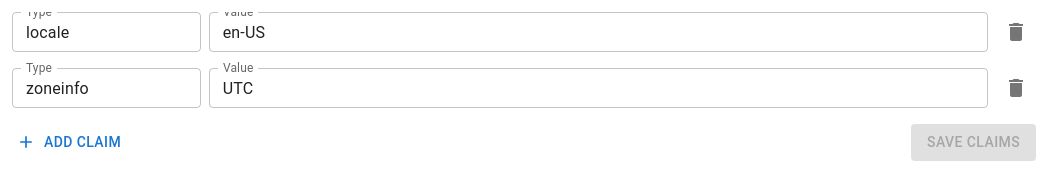
LocalAccountClaimsEditor › disables save until the rows differ
Expected: the button with test id "claims-save" is disabled, 911,124 -> 1036,160
Replace the text in the field with test id "claim-value-0" with "de-DE": (598, 32) 209,12 -> 988,52
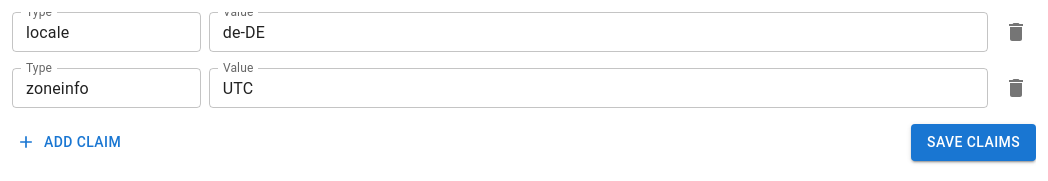
Expected: the button with test id "claims-save" is enabled, 911,124 -> 1036,160
Replace the text in the field with test id "claim-value-0" with "en-US": (598, 32) 209,12 -> 988,52
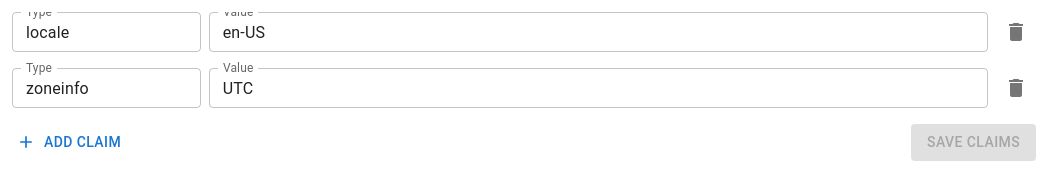
Expected: the button with test id "claims-save" is disabled, 911,124 -> 1036,160
